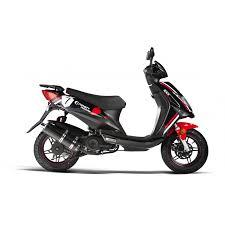motorcycle: (26, 43, 211, 174)
